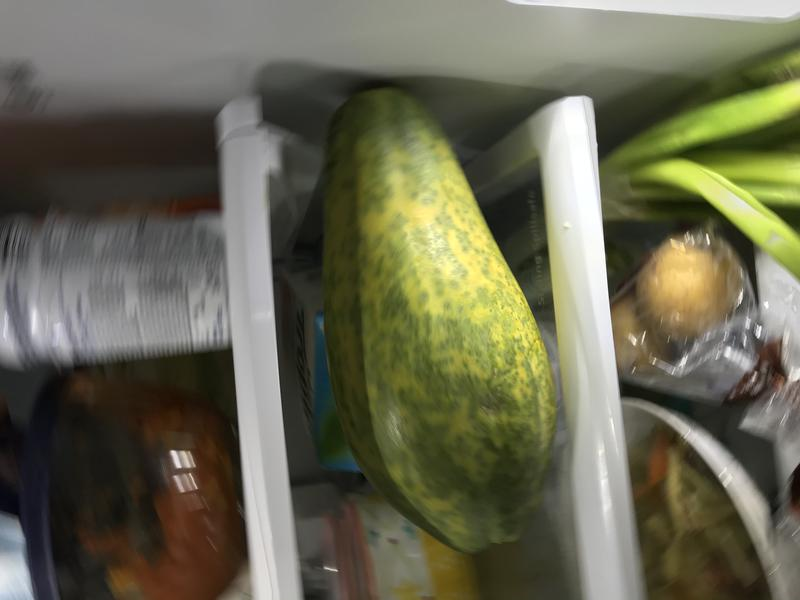papaya: (311, 73, 569, 562)
